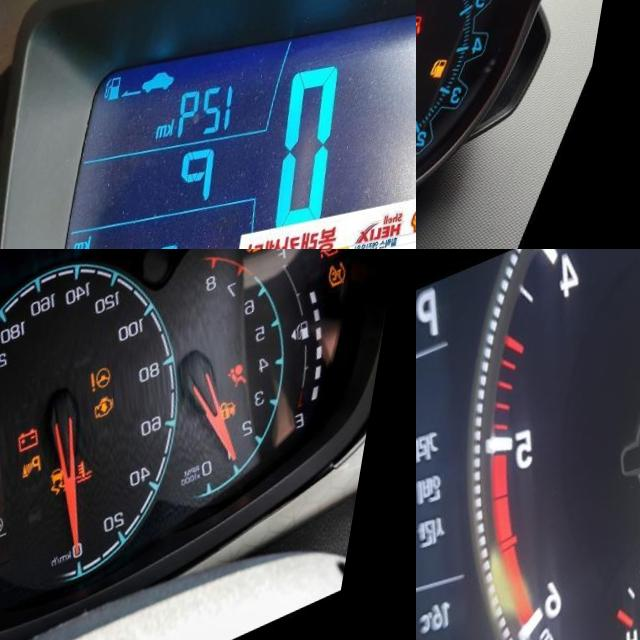Doors: (416, 30, 438, 60)
Engine cooling system: (86, 469, 111, 499)
Low fuel level: (248, 249, 274, 276), (440, 75, 461, 101)
